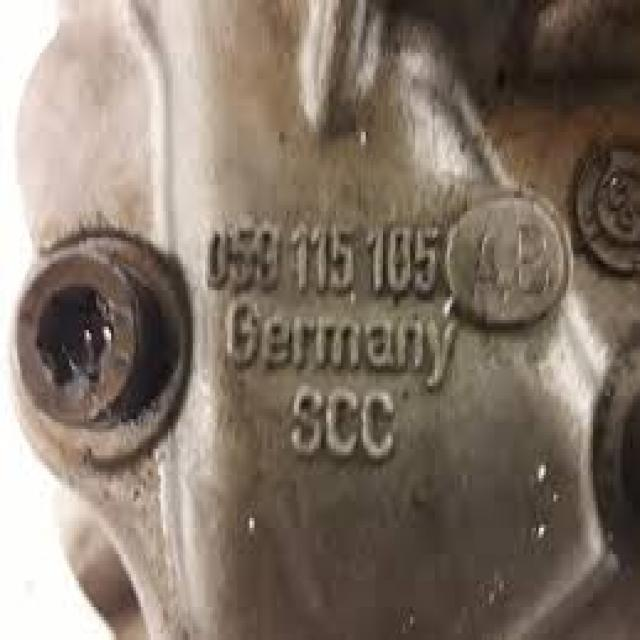ocr: (194, 199, 468, 480)
